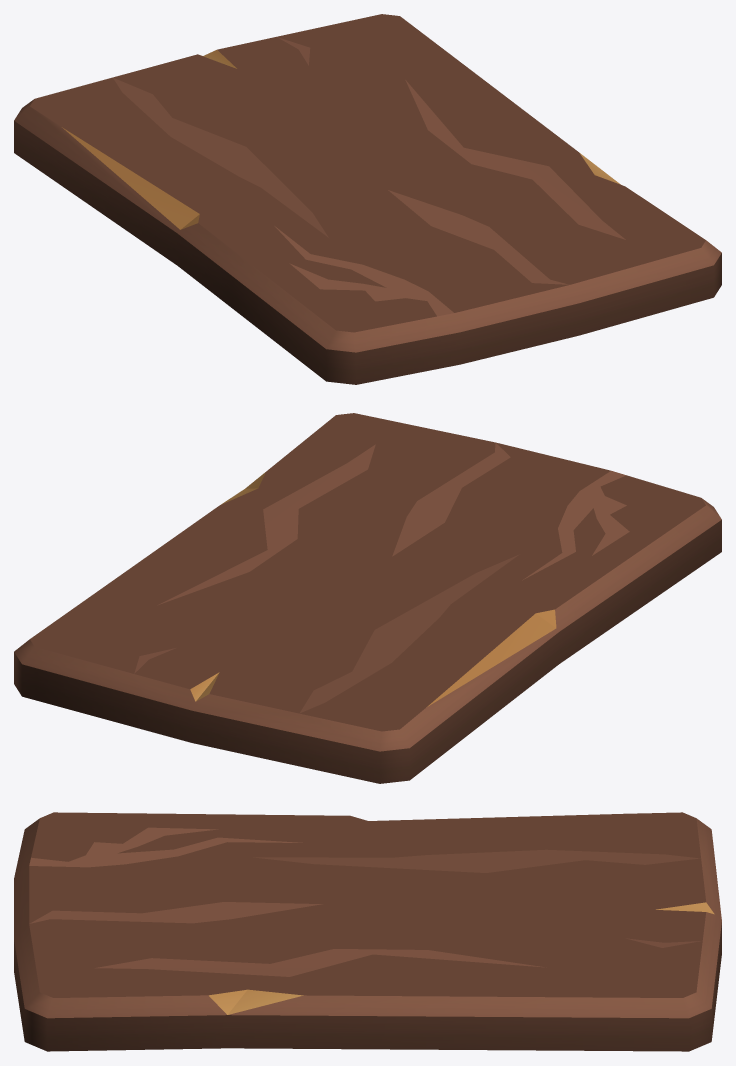
The model's file is ChoppingBoard_1_B.glb.
The picture shows the model from 3 angles, top to bottom: view 1: azimuth 30°, elevation 25°; view 2: azimuth 150°, elevation 25°; view 3: azimuth 270°, elevation 25°; orthographic projection. The views are drawn at different scales.
Visible parts, largest first — view 1: ChoppingBoard_1_B; view 2: ChoppingBoard_1_B; view 3: ChoppingBoard_1_B.
Part boxes in pixels (x1,y1,x2,y2): ChoppingBoard_1_B: (14,14,721,384); ChoppingBoard_1_B: (14,413,721,783); ChoppingBoard_1_B: (14,812,721,1051).
Size of the model in its own units: 0.7673 by 0.0847 by 1.16.
1 material, 1 textured.
